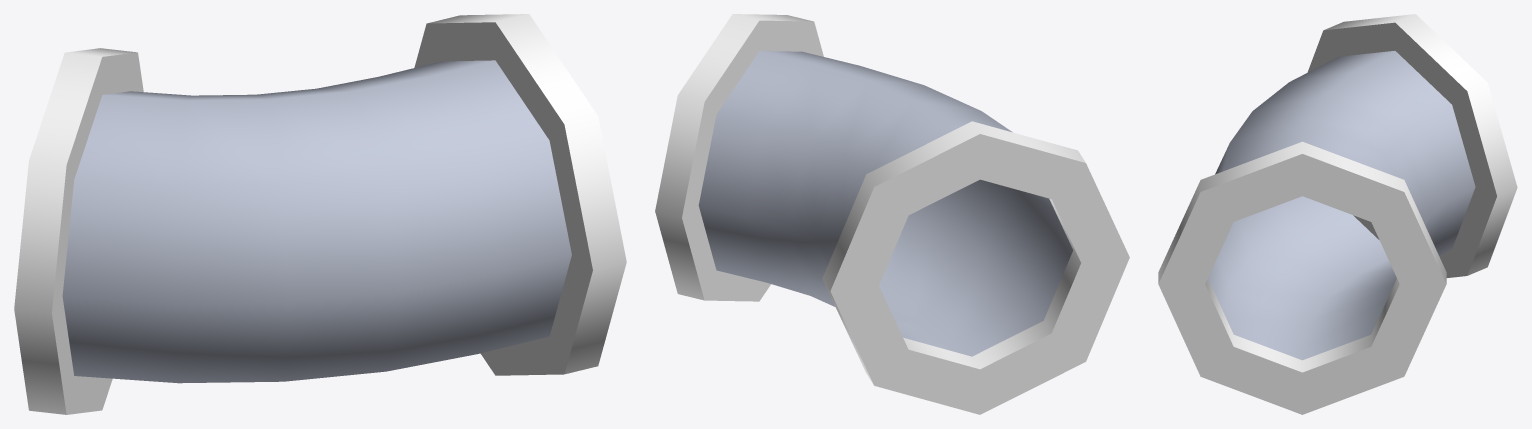
File: pipe-glass-large-curve.glb
3 views of the same model, side by side, from view 1: azimuth 30°, elevation 25°; view 2: azimuth 150°, elevation 25°; view 3: azimuth 270°, elevation 25° (orthographic). The views are drawn at different scales.
Parts seen in each view (by area): view 1: pipe-glass-large-curve; view 2: pipe-glass-large-curve; view 3: pipe-glass-large-curve.
Part boxes in pixels (x1,y1,x2,y2): pipe-glass-large-curve: (14,14,626,414); pipe-glass-large-curve: (655,14,1129,414); pipe-glass-large-curve: (1158,14,1517,414).
Bounding box in the file's own units: 1.5 × 1 × 1.25.
